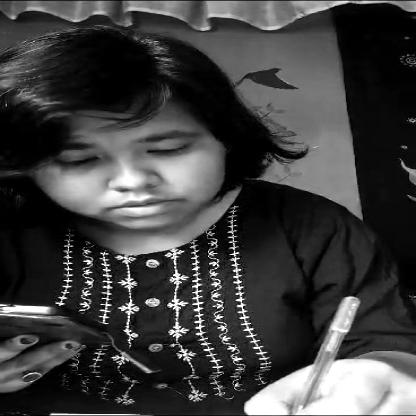Normal: (20, 94, 239, 232)
